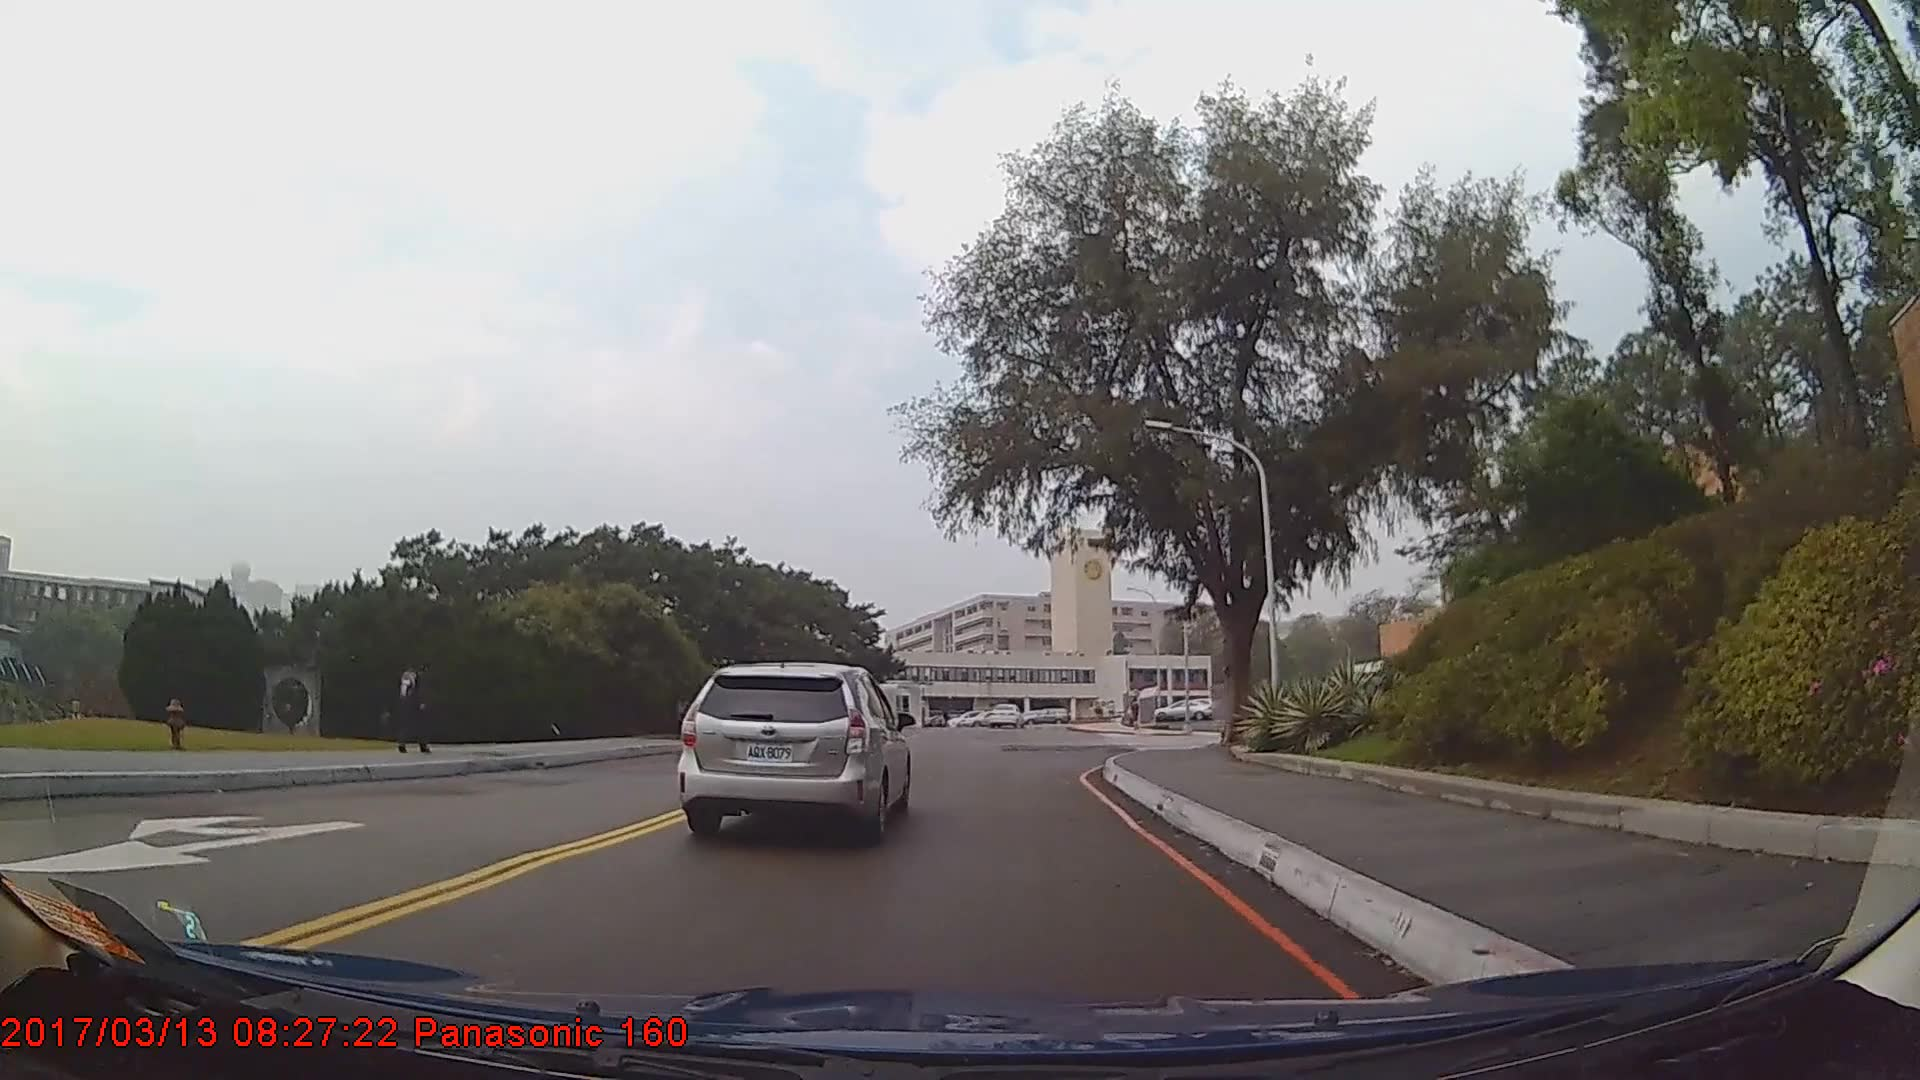pedestrian: (384, 648, 434, 756)
vehicle: (677, 659, 909, 842), (1151, 700, 1211, 722), (984, 701, 1024, 728)
